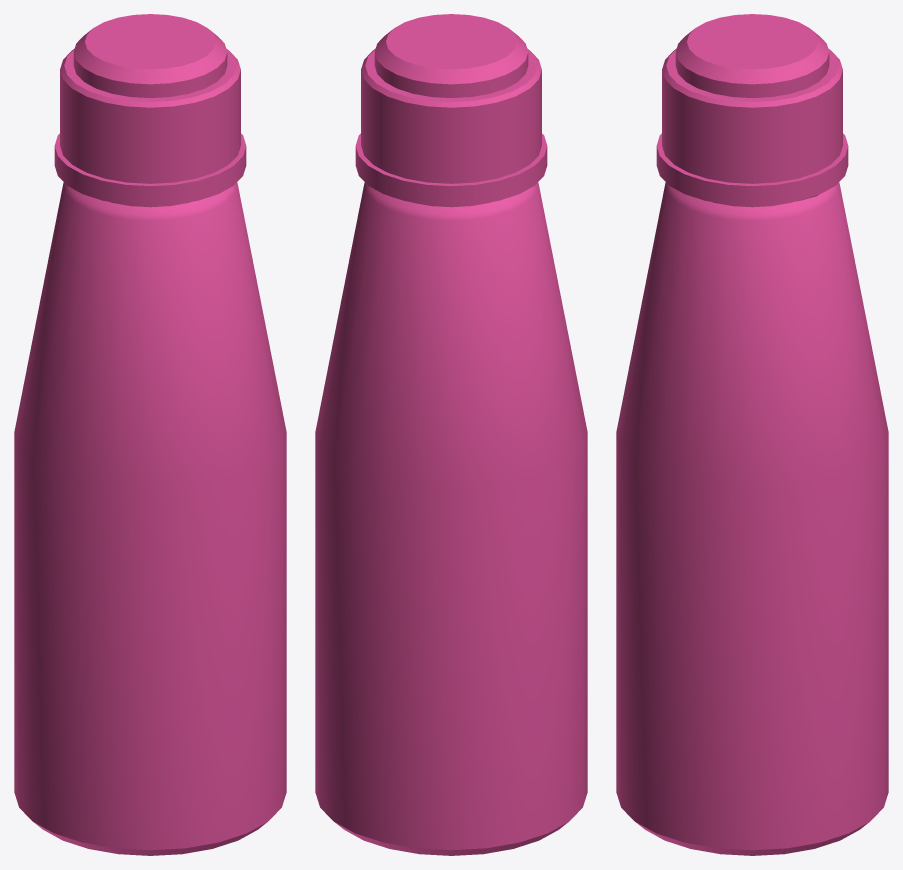
Rendered from FBX_Povidone.fbx.
3 renders of one model, left to right at view 1: azimuth 30°, elevation 25°; view 2: azimuth 150°, elevation 25°; view 3: azimuth 270°, elevation 25°, orthographic.
Parts seen in each view (by area): view 1: SM_Povidone_body, SM_Povidone_cap; view 2: SM_Povidone_body, SM_Povidone_cap; view 3: SM_Povidone_body, SM_Povidone_cap.
Part boxes in pixels (box(x1,y1,x2,y2)): SM_Povidone_body: box(14, 182, 286, 855); SM_Povidone_cap: box(54, 14, 246, 205); SM_Povidone_body: box(315, 182, 587, 855); SM_Povidone_cap: box(355, 14, 547, 205); SM_Povidone_body: box(616, 182, 888, 855); SM_Povidone_cap: box(656, 14, 848, 205).
Size of the model in its own units: 0.0324 by 0.1001 by 0.0324.
